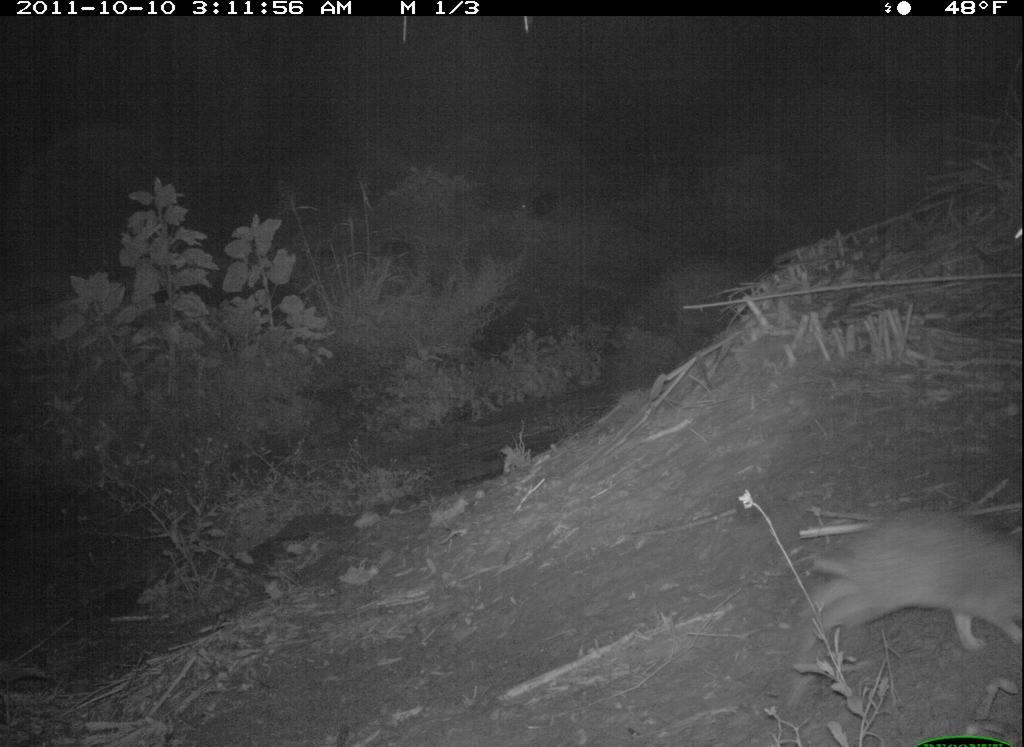rabbit: (780, 491, 1019, 706)
